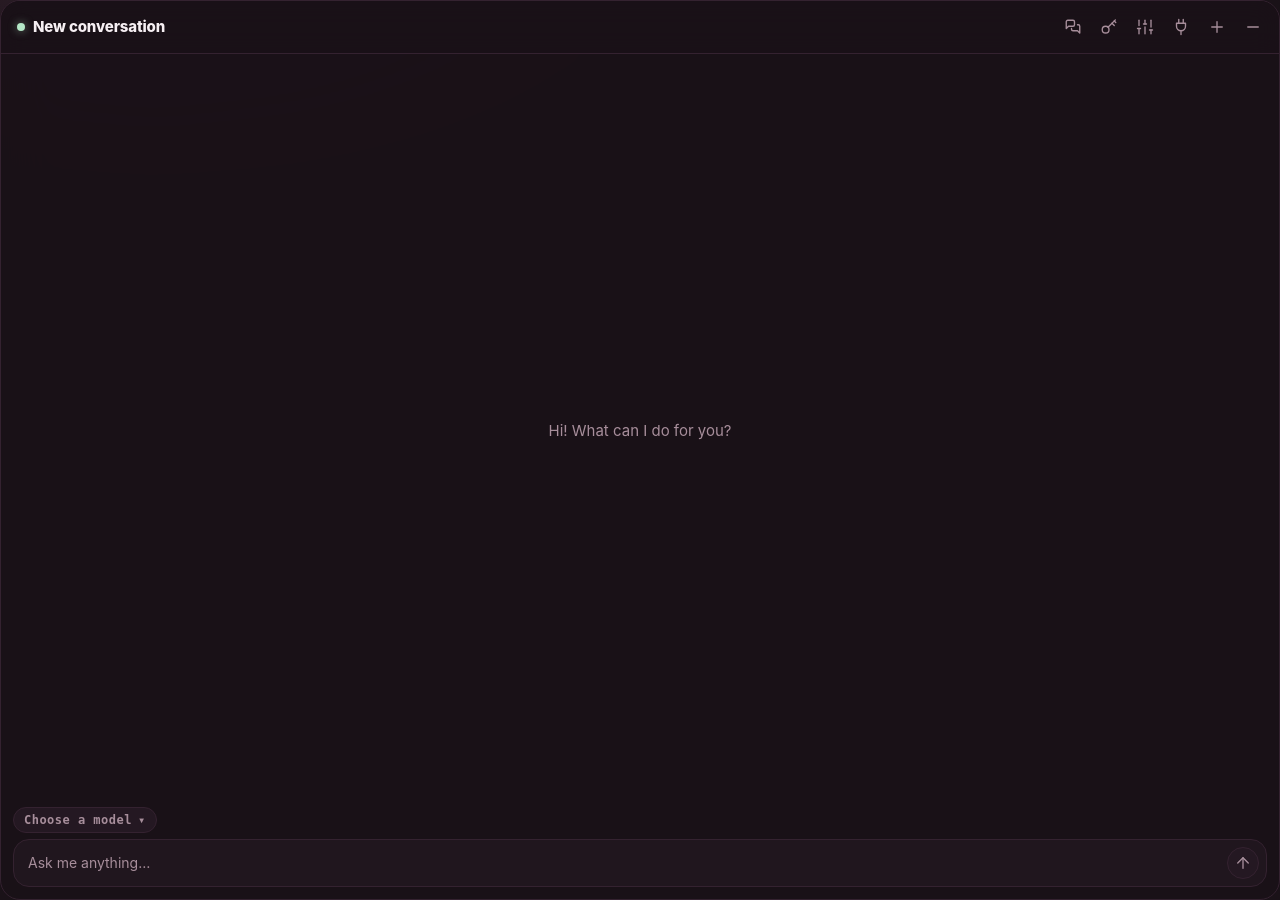
Test: typing closes open options › leaves an option opened while text is already typed until the box is emptied and typing starts again
Type "draft" into the text box named "Message" at (624, 863), box [28,847,1219,879]
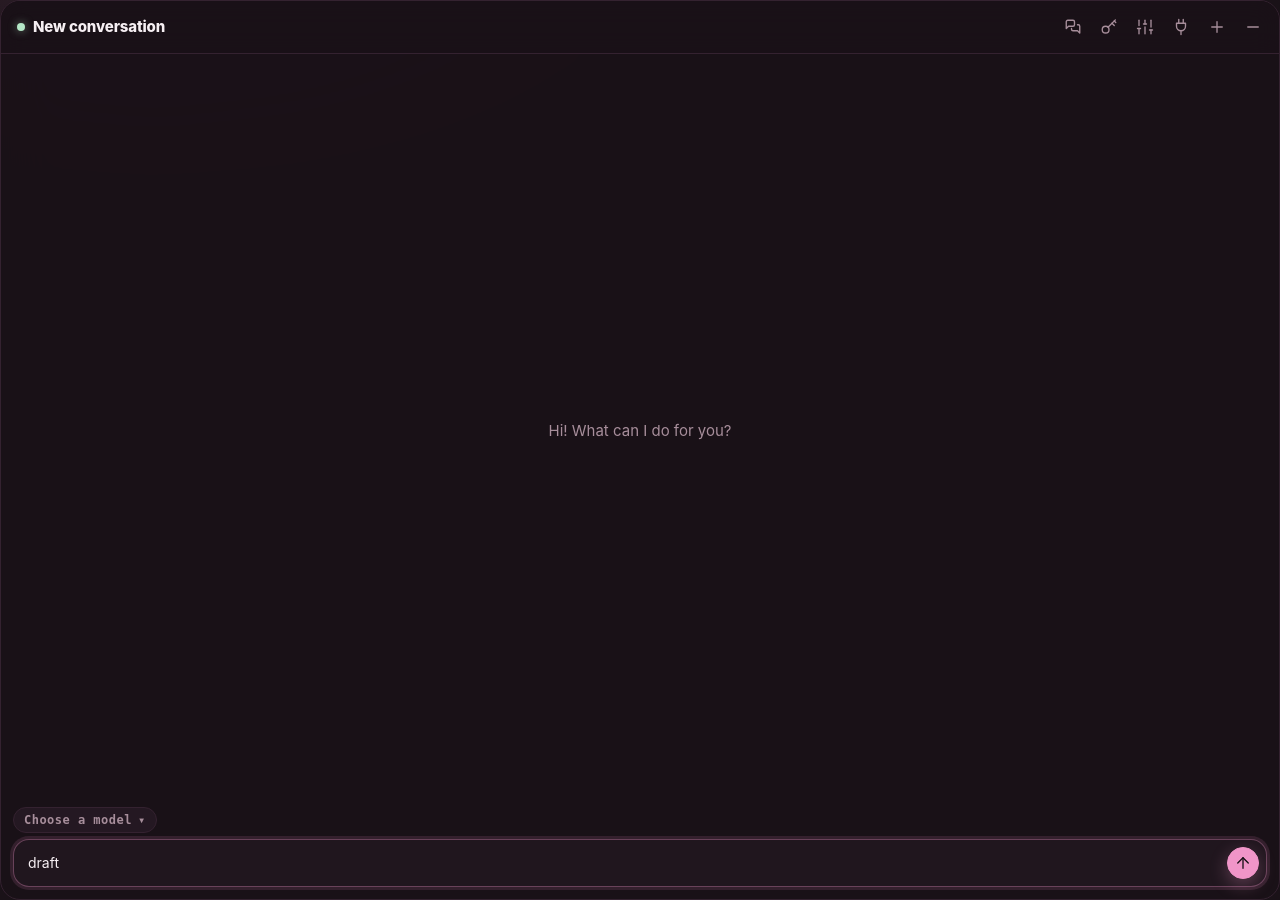
Click the button named "Profiles" at (1145, 27), box [1129,11,1161,43]
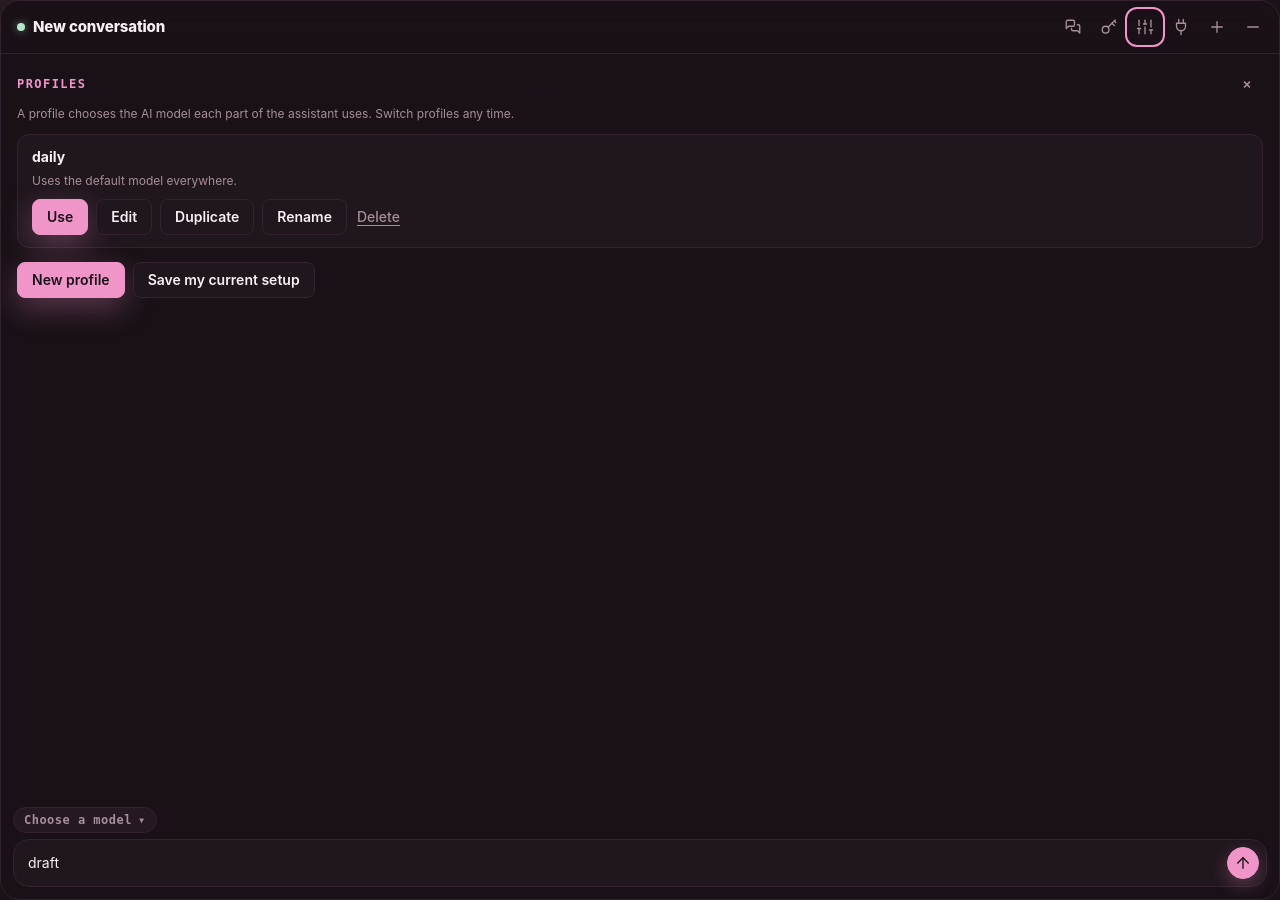
Type " more" into the text box named "Message" at (624, 863), box [28,847,1219,879]
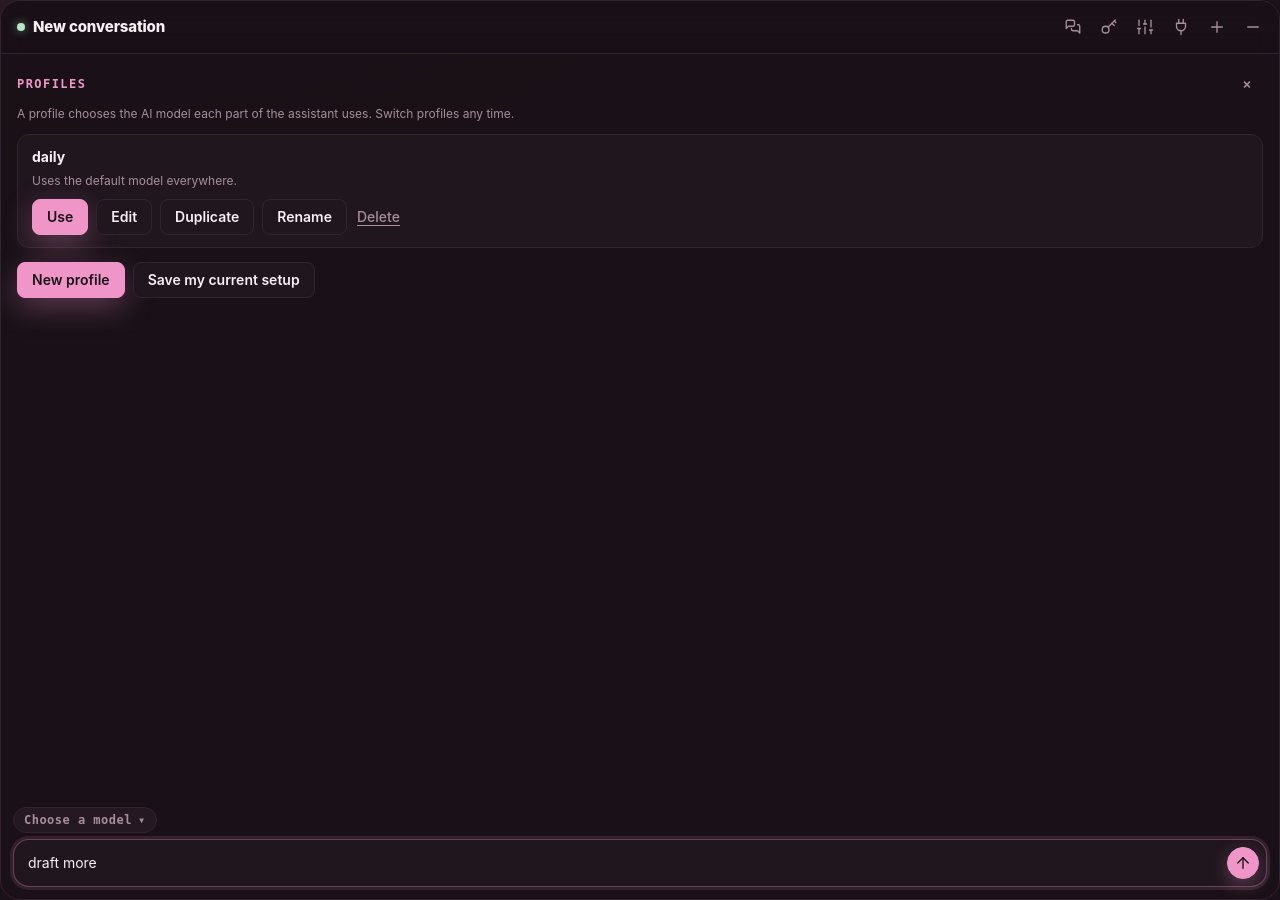
Result: the element "Profiles" is shown at [17,68,1263,298]
Replace the text in the text box named "Message" with "n" at (624, 863), box [28,847,1219,879]
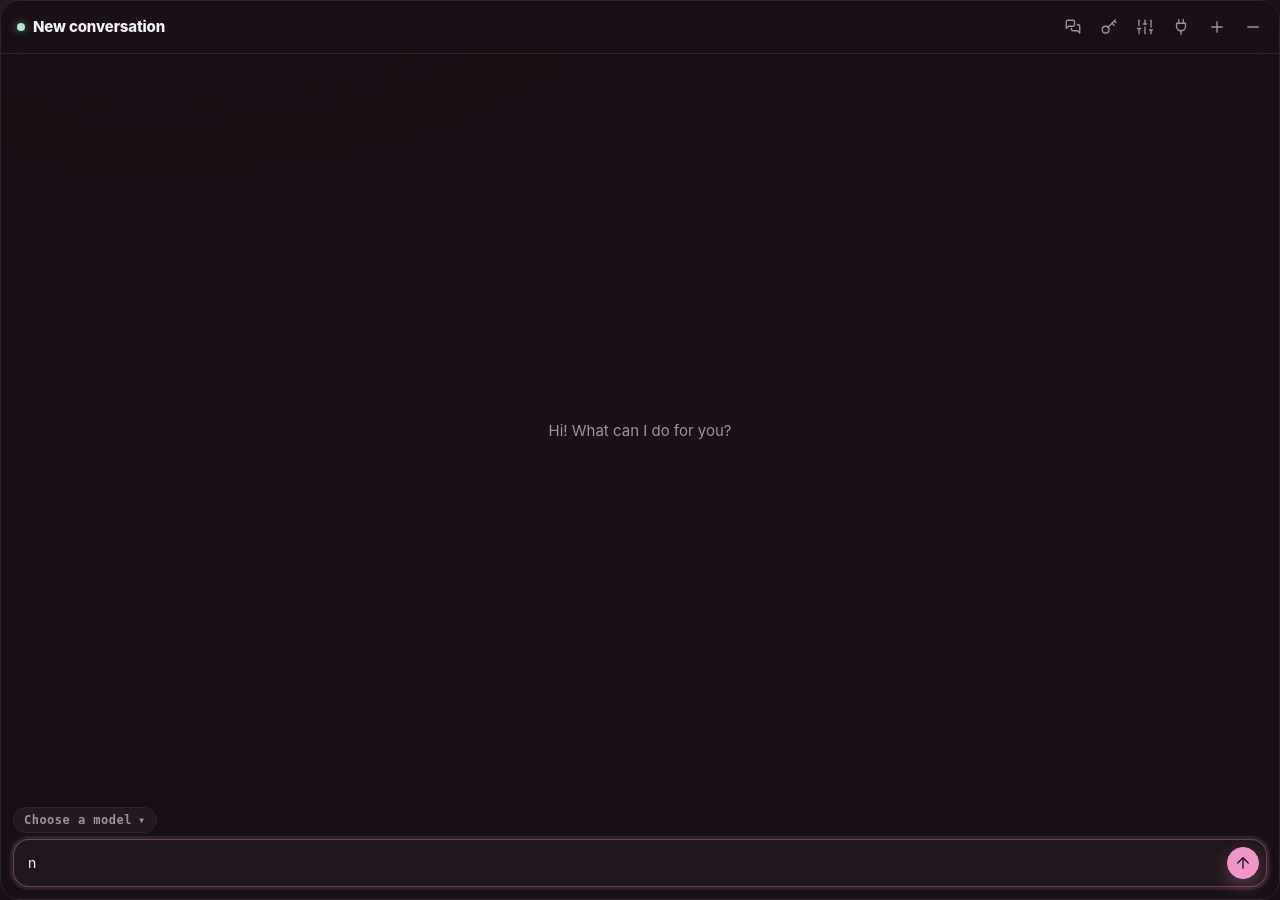
Result: the heading "Profiles" is gone
